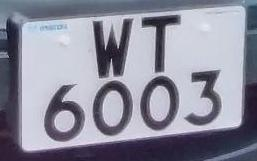0: (89, 75, 138, 143), (136, 72, 183, 137)
3: (179, 64, 228, 133)
6: (38, 75, 90, 146)
T: (135, 10, 193, 80)
W: (83, 11, 138, 85)
